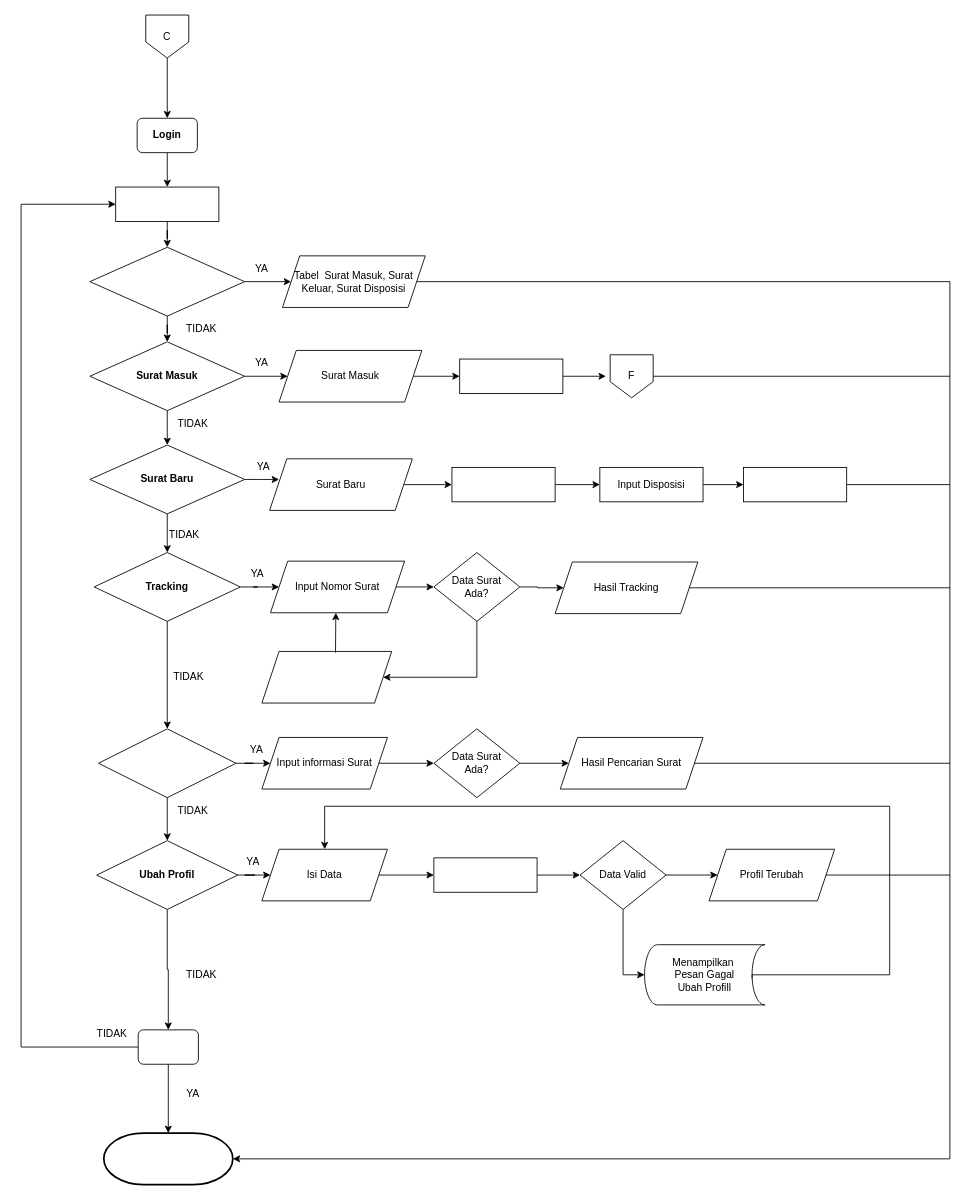
The diagram is 972 pixels wide and 1201 high, and some of its shapes have lost their labels. The box of each missing label's shape, as (x1, y1, x2, y2) in pixels:
Aksi Surat: (459, 358, 563, 393)
Cari Surat: (98, 728, 236, 798)
Dashboard: (89, 246, 245, 316)
Kirim Disposisi: (743, 467, 847, 502)
Logout: (137, 1029, 198, 1064)
Pilih Detail: (451, 467, 555, 502)
Pilih Menu: (115, 186, 219, 221)
Selesai: (103, 1132, 233, 1185)
Surat Tidak Ditemukan: (261, 651, 392, 703)
Upload Foto: (433, 857, 537, 892)
